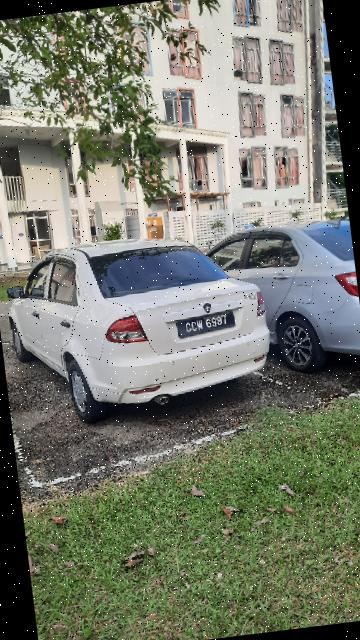License_Plate: (172, 307, 242, 340)
car: (1, 221, 279, 431), (200, 214, 360, 387)
